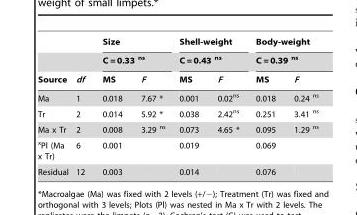table: (36, 37, 317, 176)
table column: (130, 37, 171, 176), (207, 37, 246, 176), (93, 37, 130, 176), (246, 37, 283, 176), (171, 37, 207, 176), (36, 37, 71, 176), (283, 37, 317, 176), (71, 37, 93, 176)
table column header: (36, 37, 317, 87)
table row: (36, 136, 317, 163), (36, 50, 317, 69), (36, 69, 317, 87), (36, 87, 317, 105), (36, 120, 317, 136), (36, 105, 317, 120), (36, 37, 317, 50), (36, 163, 317, 176)
table spanning cell: (93, 37, 171, 69), (171, 37, 246, 69), (246, 37, 317, 69), (36, 37, 71, 87), (71, 37, 93, 87)
